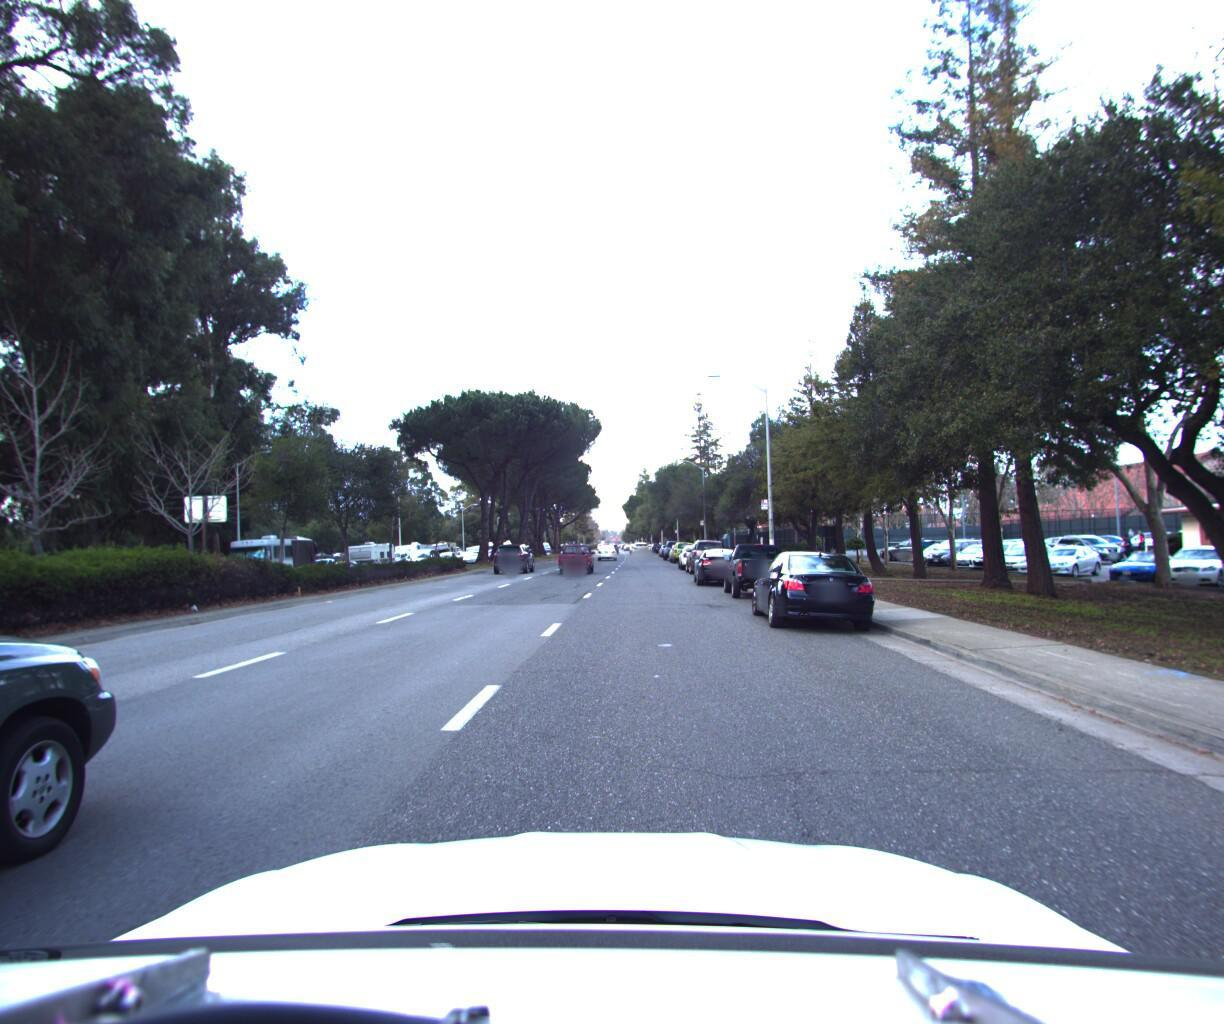car: (742, 541, 883, 637), (716, 537, 797, 595), (687, 543, 743, 583), (693, 531, 740, 574), (678, 535, 724, 571), (490, 539, 536, 570), (551, 537, 593, 571), (674, 535, 708, 567), (662, 535, 691, 558), (596, 537, 617, 557)
other_vehicle: (231, 529, 312, 567), (349, 539, 397, 563)
